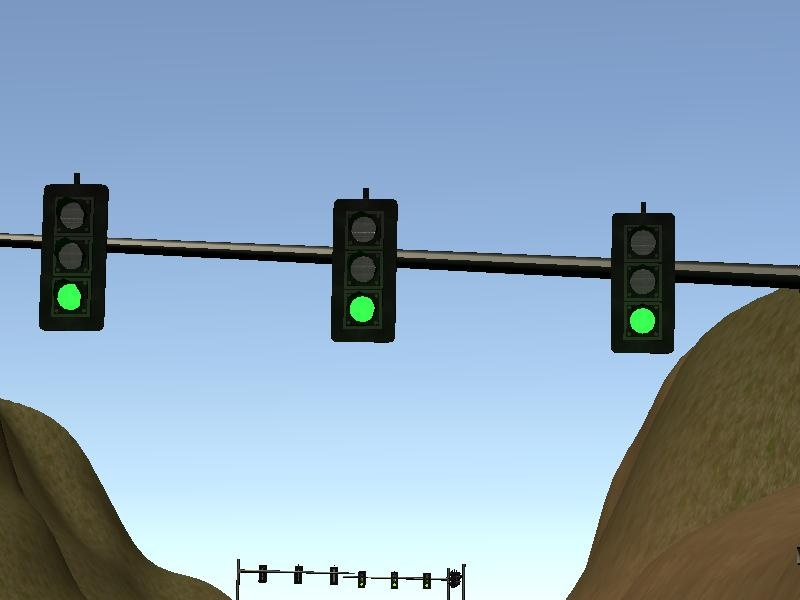green: (328, 194, 401, 346), (39, 180, 109, 332), (610, 211, 678, 360)
